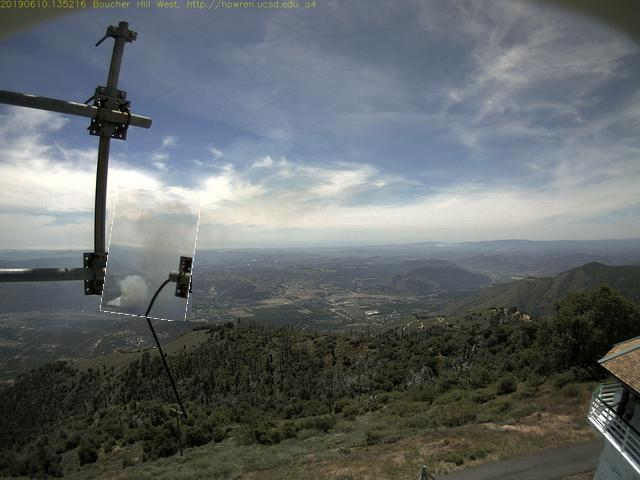smoke: (105, 190, 198, 321)
